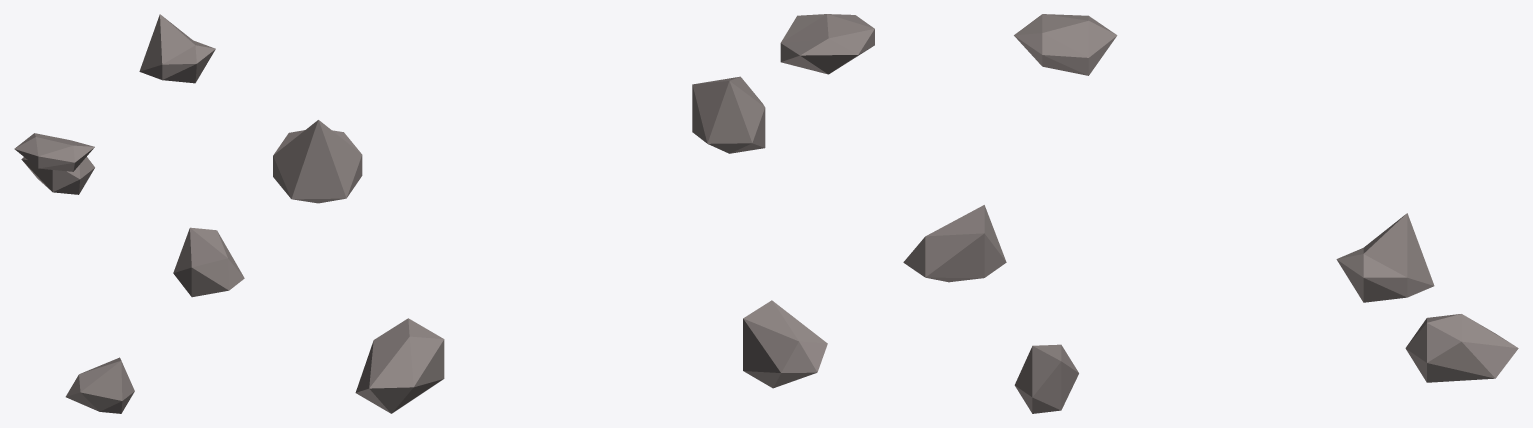
File: rocks.gltf
The picture shows the model from 3 angles, left to right: view 1: azimuth 30°, elevation 25°; view 2: azimuth 150°, elevation 25°; view 3: azimuth 270°, elevation 25°; orthographic projection. The views are drawn at different scales.
Parts seen in each view (by area): view 1: pPlatonic3, pPlatonic5, pPlatonic7, pPlatonic4, pPlatonic6; view 2: pPlatonic6, pPlatonic5, pPlatonic7, pPlatonic3, pPlatonic4; view 3: pPlatonic6, pPlatonic5, pPlatonic3, pPlatonic4, pPlatonic7.
Part boxes in pixels (bbox=[...]): pPlatonic3: bbox=[173, 227, 244, 297]; pPlatonic5: bbox=[139, 14, 215, 83]; pPlatonic7: bbox=[65, 357, 134, 413]; pPlatonic4: bbox=[14, 133, 94, 171]; pPlatonic6: bbox=[21, 157, 94, 194]; pPlatonic6: bbox=[355, 318, 444, 413]; pPlatonic5: bbox=[273, 120, 362, 203]; pPlatonic7: bbox=[743, 300, 827, 388]; pPlatonic3: bbox=[692, 76, 765, 153]; pPlatonic4: bbox=[780, 14, 874, 74]; pPlatonic6: bbox=[1405, 314, 1518, 382]; pPlatonic5: bbox=[1336, 213, 1434, 302]; pPlatonic3: bbox=[903, 205, 1006, 282]; pPlatonic4: bbox=[1014, 14, 1117, 75]; pPlatonic7: bbox=[1014, 344, 1078, 413].
Size of the model in its own units: 36.47 by 31.15 by 49.15.
1 material, 1 textured.
